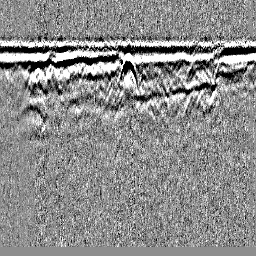cavity: (117, 50, 139, 90)
